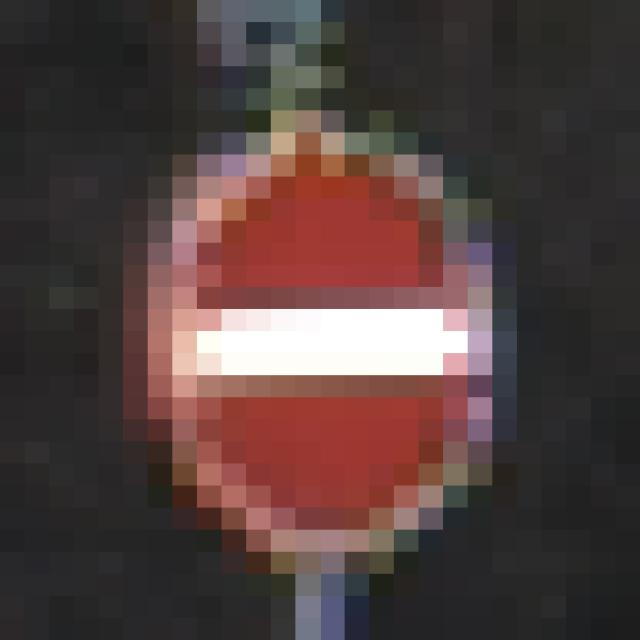No Entry: (124, 111, 518, 531)
